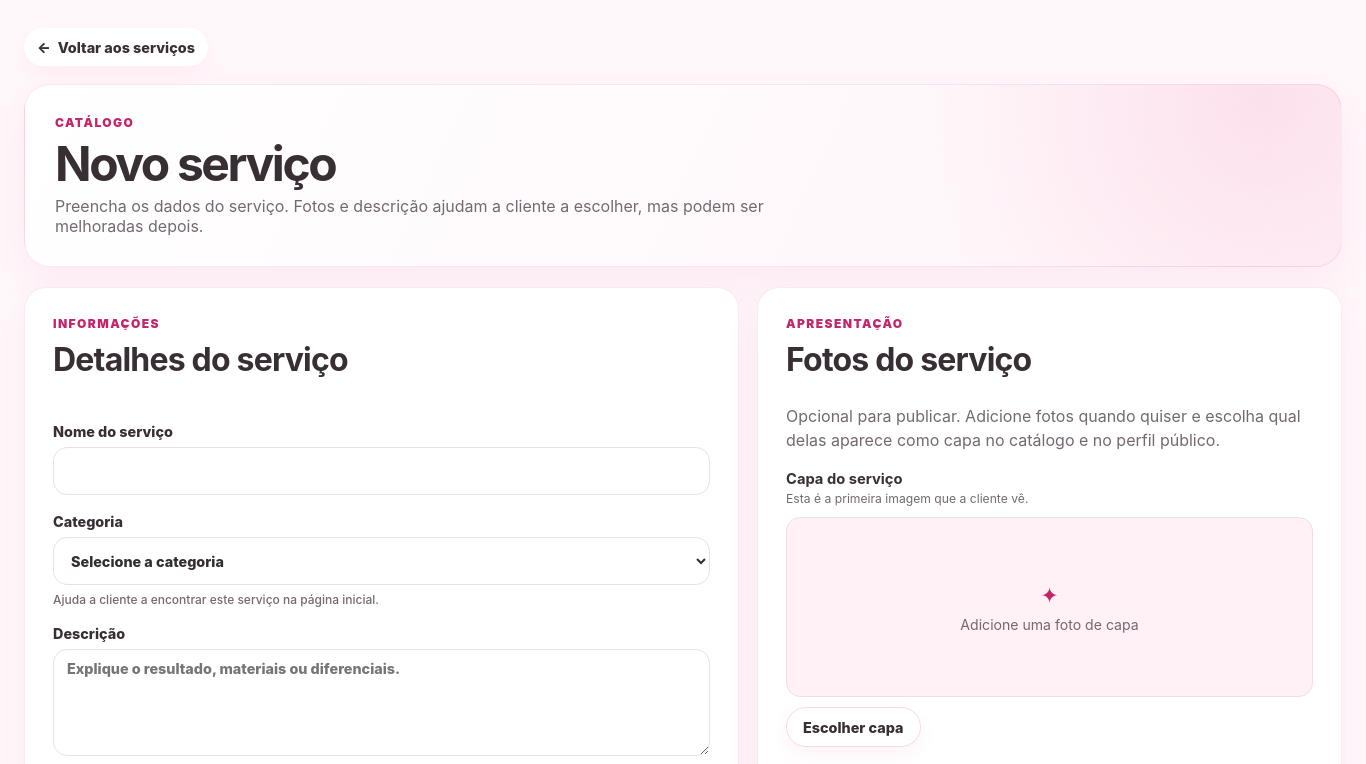
Scenario: cadastro recuperável depois de recarregar › POST antigo concluído após GET ausente recupera o canônico ao detectar payload diferente
Type "Novo nome digitado" into the field labelled "Nome do serviço" at (382, 472), box 53,448 -> 710,496
(page scrolled)
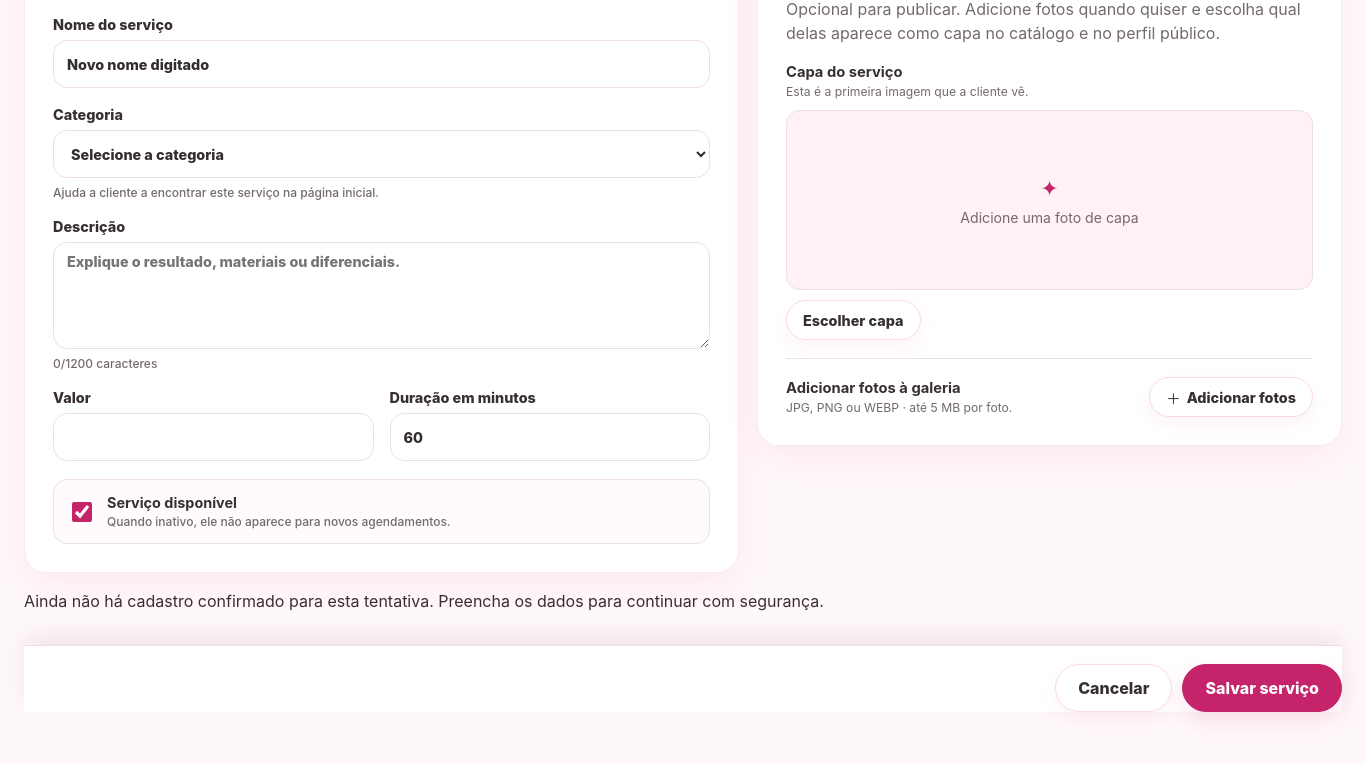
Type "50" into the number field labelled "Valor" at (213, 438), box 53,414 -> 374,462
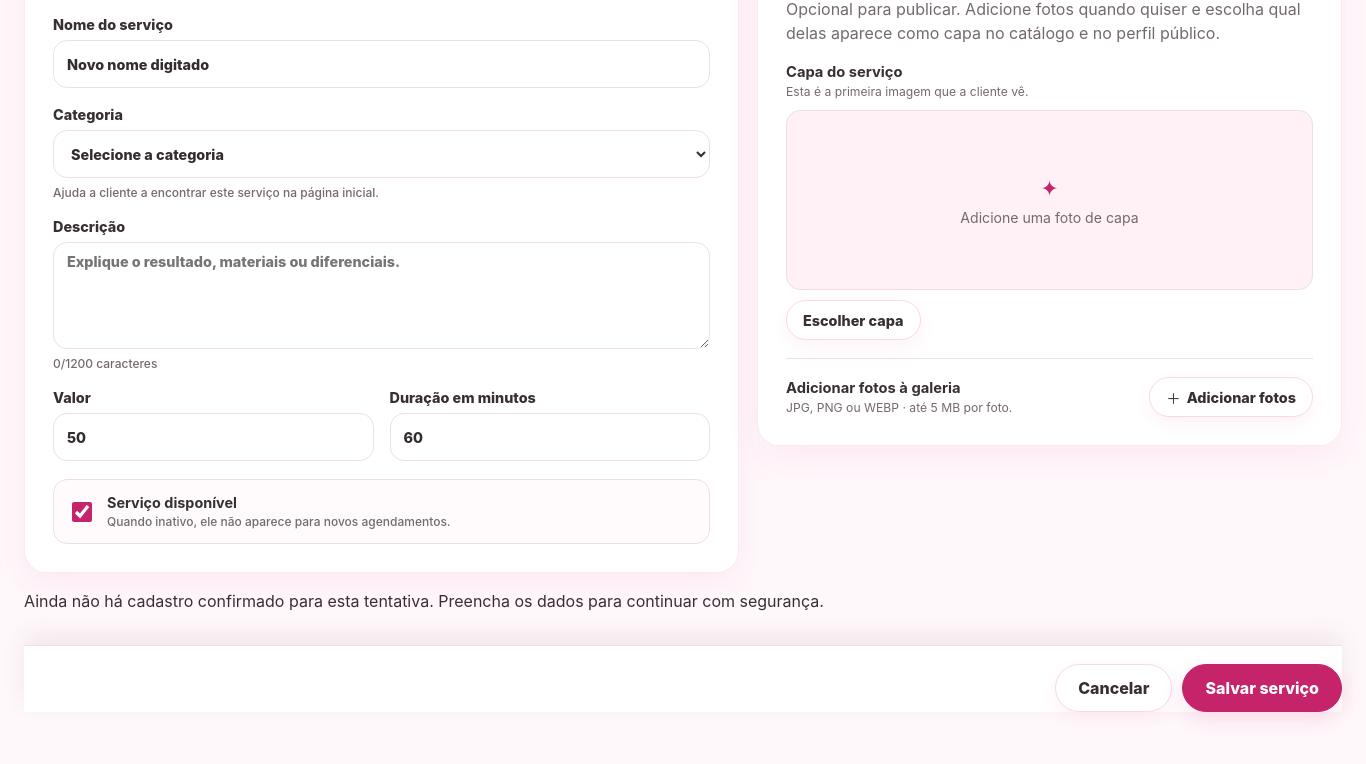
Select "Unhas" in the dropdown labelled "Categoria" at (382, 154), box 53,130 -> 710,178
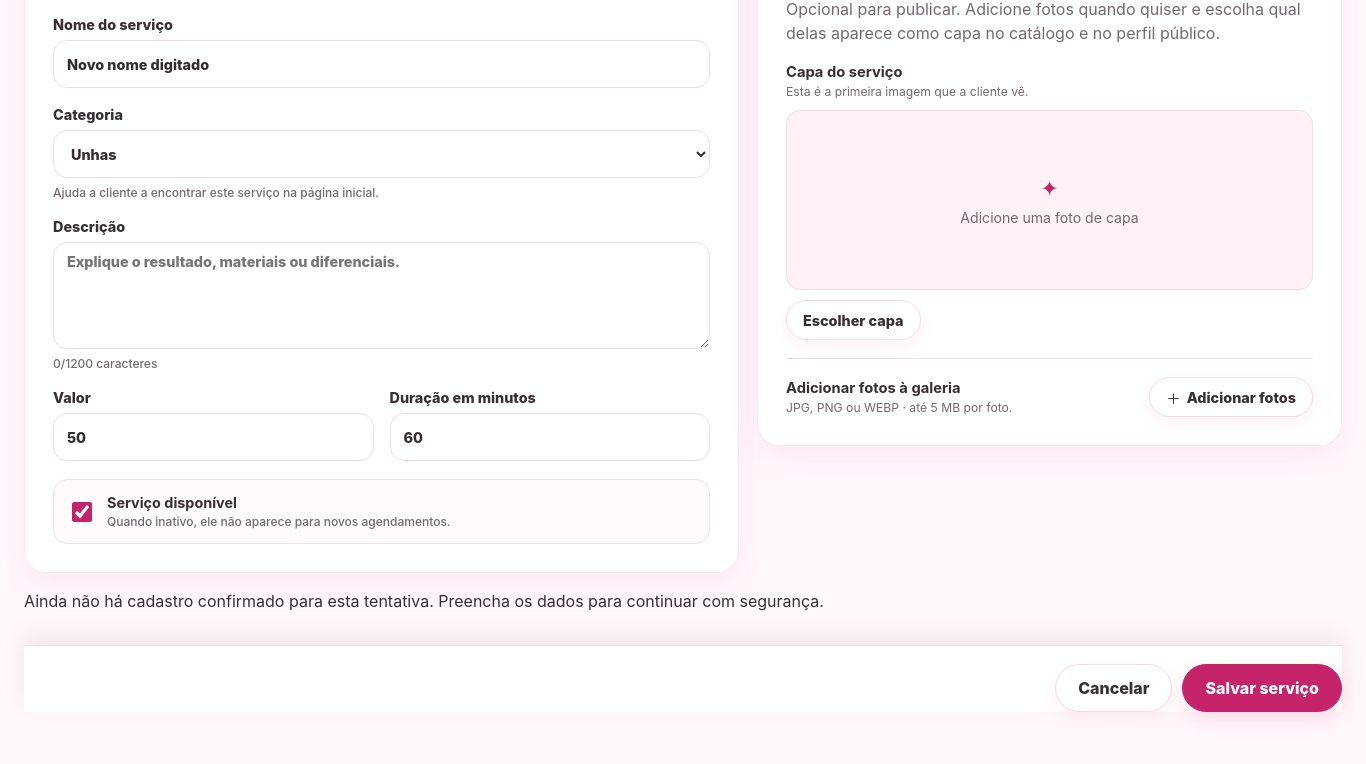
Click the button "Salvar serviço" at (1262, 688), box 1182,664 -> 1342,712
(page scrolled)
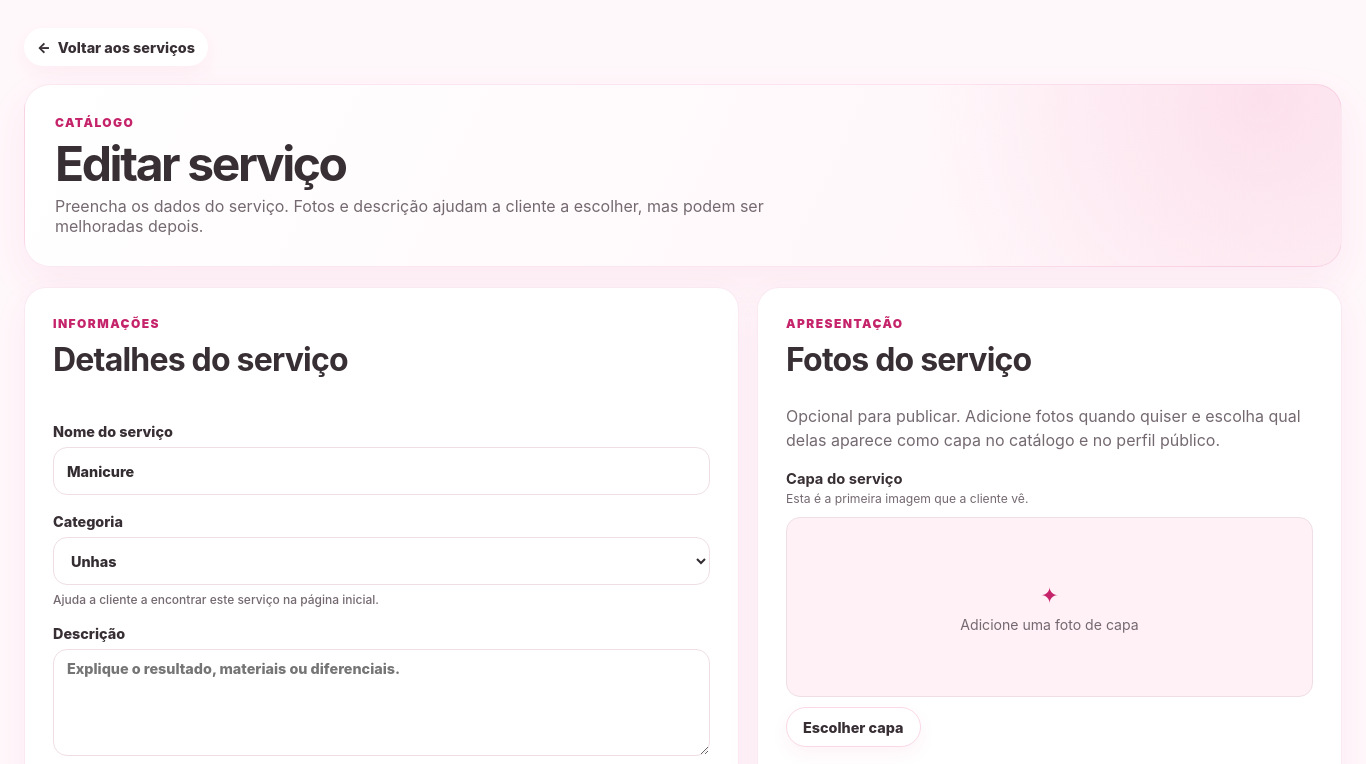
Expected: the field labelled "Nome do serviço" holds "Manicure", 53,448 -> 710,496
